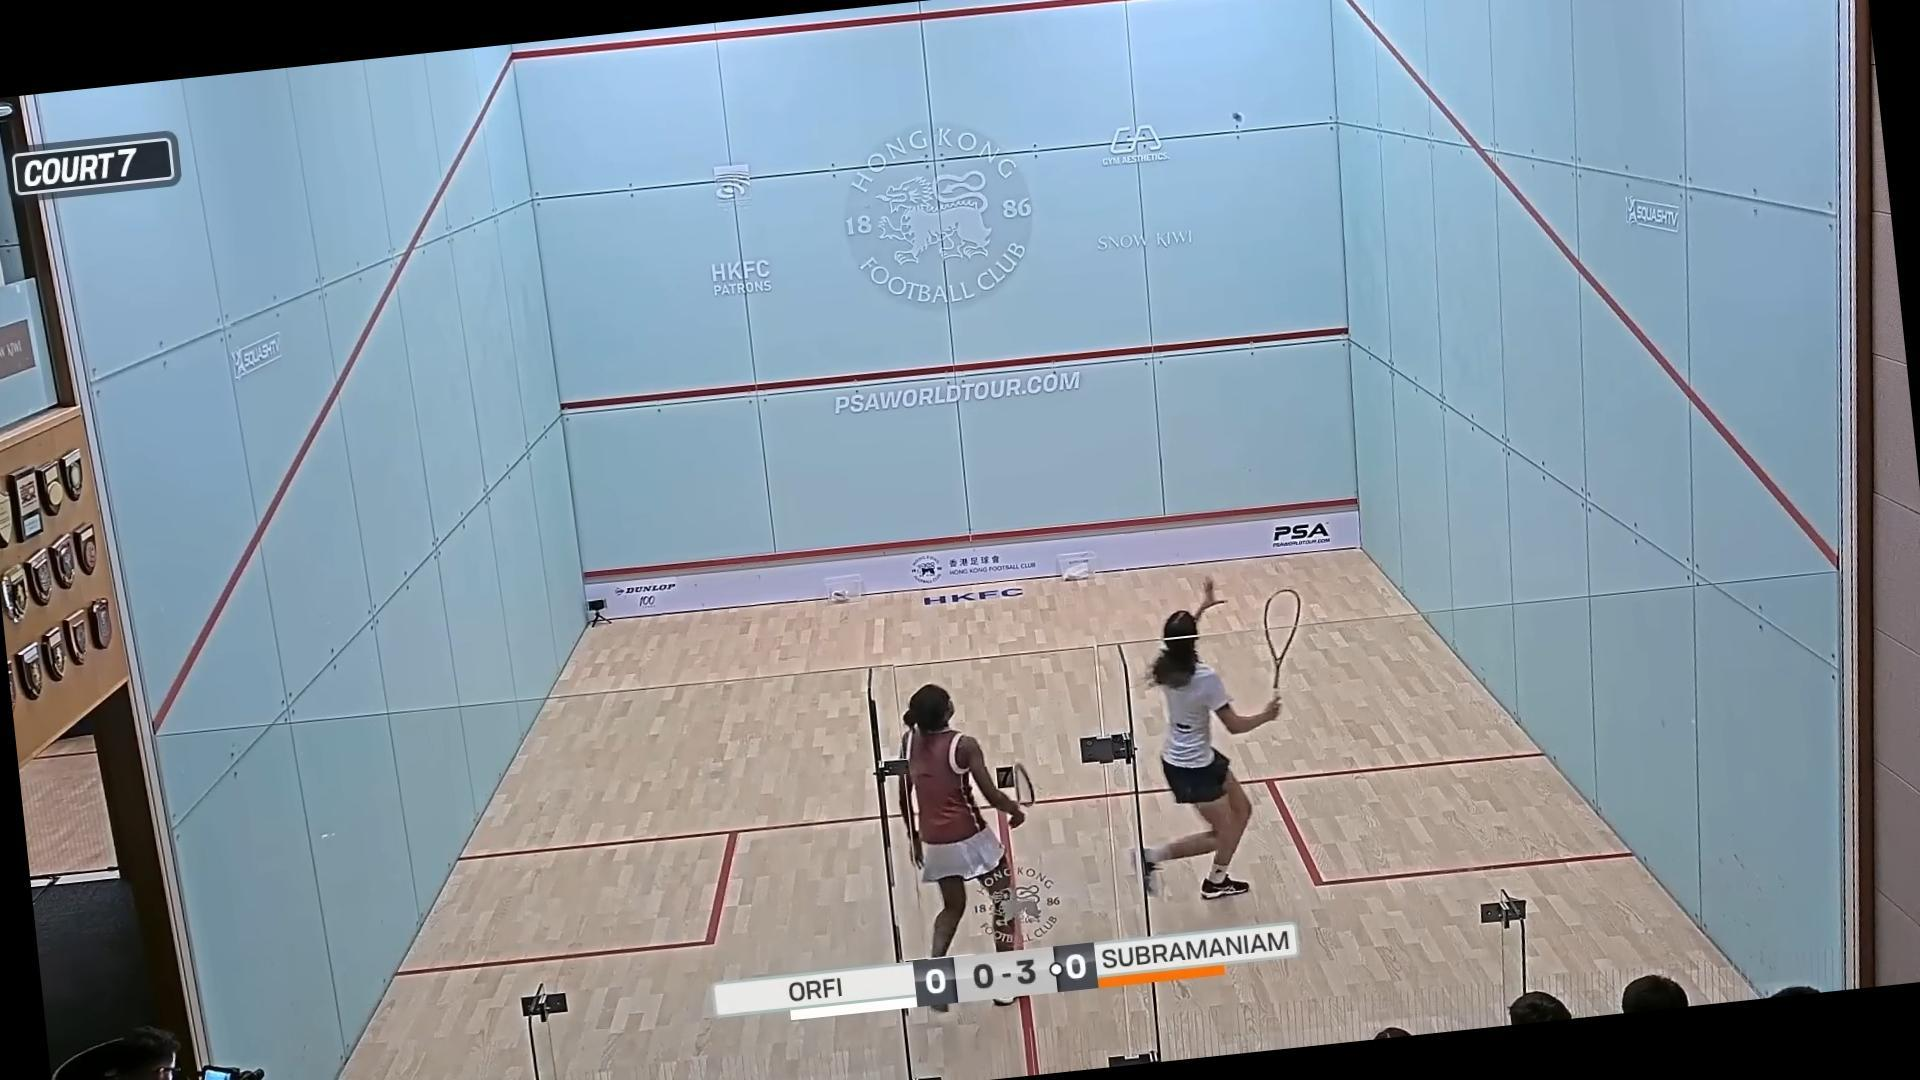Squash-Ball: (1221, 102, 1251, 135)
